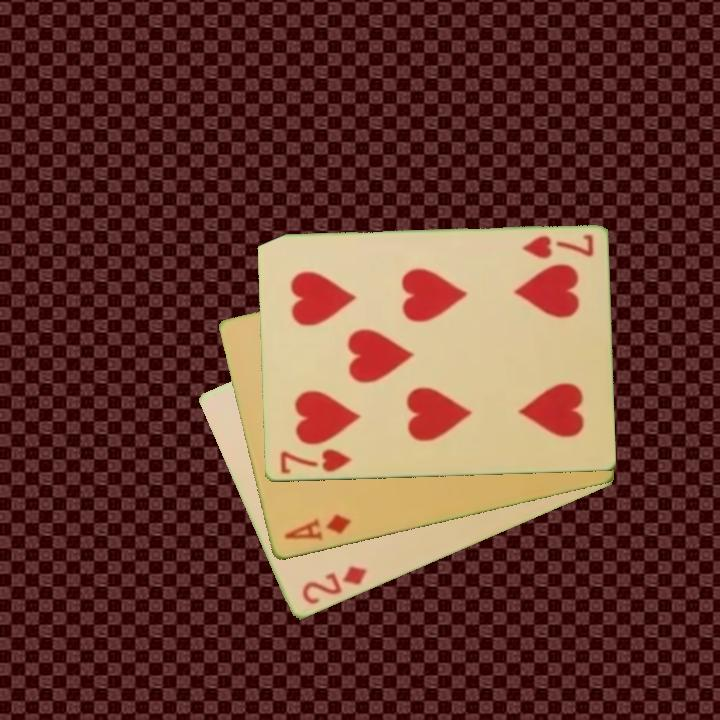2d: (298, 562, 370, 608)
7h: (276, 446, 354, 478), (518, 231, 596, 262)
Ad: (280, 511, 354, 545)
